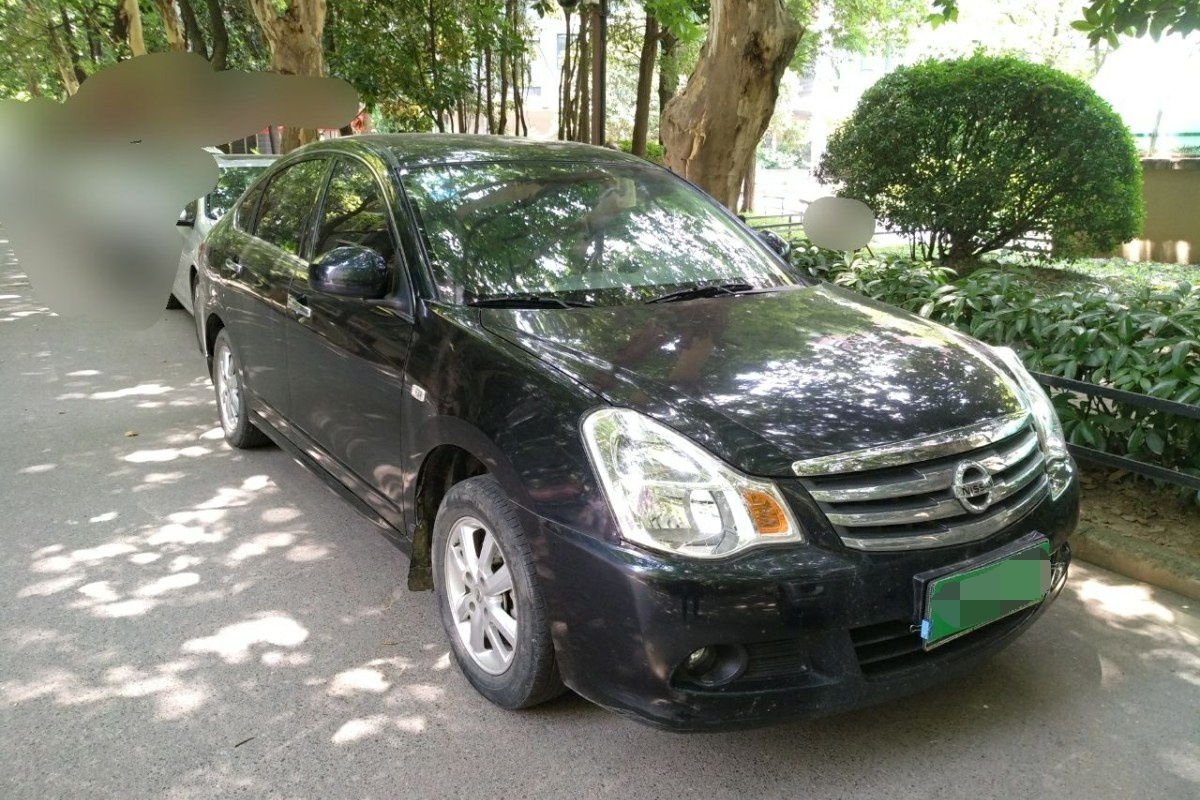family sedan: (177, 104, 1063, 726)
